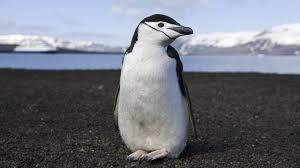chinstrap: (97, 7, 208, 164)
